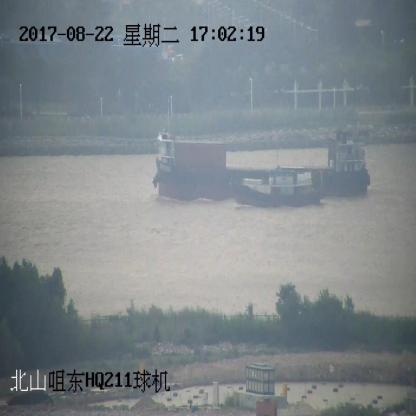Fishing Boat: (234, 166, 322, 210)
